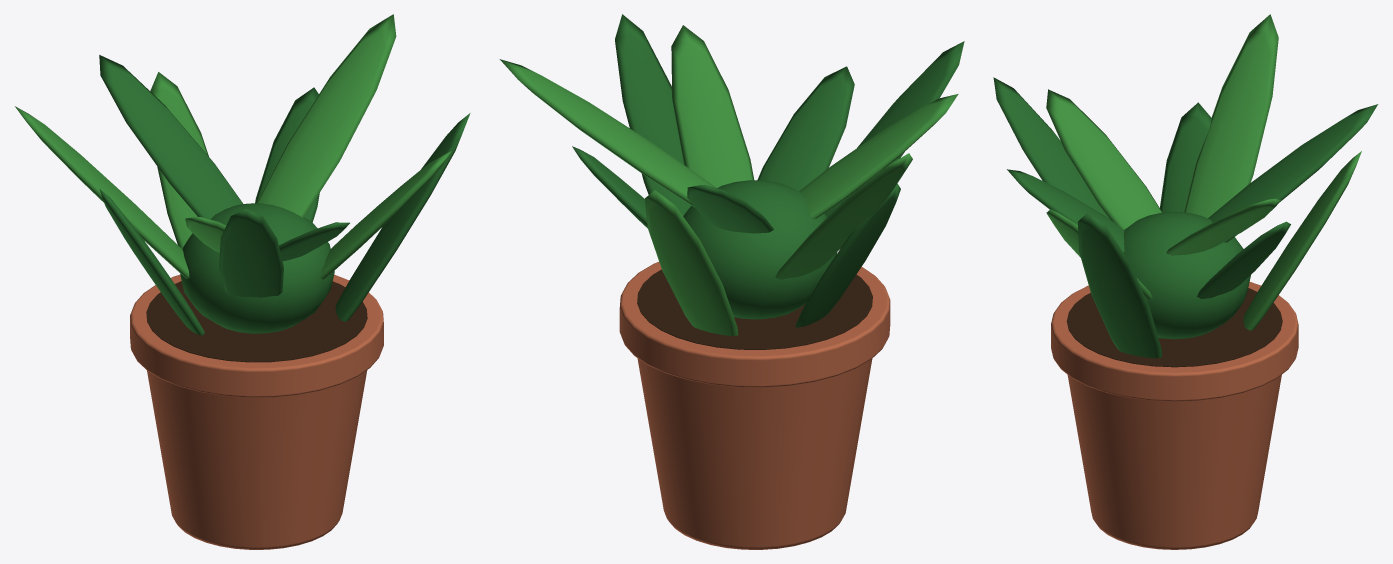
File: plant_potted.glb
The picture shows the model from 3 angles, left to right: view 1: azimuth 30°, elevation 25°; view 2: azimuth 150°, elevation 25°; view 3: azimuth 270°, elevation 25°; orthographic projection. The views are drawn at different scales.
Parts seen in each view (by area): view 1: Cone, Cylinder, Sphere.003, Sphere.011, Cylinder.001, Sphere.006, Sphere.010, Sphere.002, Sphere.007, Sphere.001, Sphere.005, Sphere.008 (+3 smaller); view 2: Cone, Cylinder, Sphere.011, Sphere.001, Cylinder.001, Sphere.005, Sphere, Sphere.003, Sphere.002, Sphere.009, Sphere.007, Sphere.008 (+3 smaller); view 3: Cone, Cylinder, Sphere.011, Sphere.007, Cylinder.001, Sphere.002, Sphere.009, Sphere.006, Sphere.010, Sphere.005, Sphere.008, Sphere.004 (+3 smaller).
Boxes of the visible parts, x1,y1,x2,y2 form: Cone: [147, 370, 367, 549]; Cylinder: [130, 274, 383, 397]; Sphere.003: [256, 14, 396, 217]; Sphere.011: [180, 203, 334, 333]; Cylinder.001: [146, 281, 367, 362]; Sphere.006: [99, 55, 243, 219]; Sphere.010: [219, 208, 283, 297]; Sphere.002: [335, 113, 470, 321]; Sphere.007: [15, 106, 189, 278]; Sphere.001: [320, 151, 451, 279]; Sphere.005: [150, 72, 208, 248]; Sphere.008: [99, 189, 204, 335]; Cone: [637, 358, 872, 549]; Cylinder: [619, 262, 890, 387]; Sphere.011: [683, 180, 837, 319]; Sphere.001: [671, 25, 754, 187]; Cylinder.001: [637, 269, 872, 349]; Sphere.005: [645, 190, 738, 335]; Sphere: [757, 66, 854, 191]; Sphere.003: [499, 59, 716, 207]; Sphere.002: [615, 14, 691, 215]; Sphere.009: [799, 94, 958, 219]; Sphere.007: [775, 153, 912, 279]; Sphere.008: [795, 183, 900, 327]; Cone: [1067, 375, 1281, 549]; Cylinder: [1051, 282, 1298, 401]; Sphere.011: [1123, 212, 1250, 339]; Sphere.007: [1183, 14, 1278, 218]; Cylinder.001: [1066, 288, 1282, 367]; Sphere.002: [1077, 212, 1161, 358]; Sphere.009: [1046, 89, 1162, 229]; Sphere.006: [1208, 104, 1378, 242]; Sphere.010: [993, 77, 1109, 218]; Sphere.005: [1243, 151, 1361, 330]; Sphere.008: [1160, 102, 1212, 212]; Sphere.004: [1197, 221, 1290, 299].
Size of the model in its own units: 0.6764 by 0.7145 by 0.6061.
